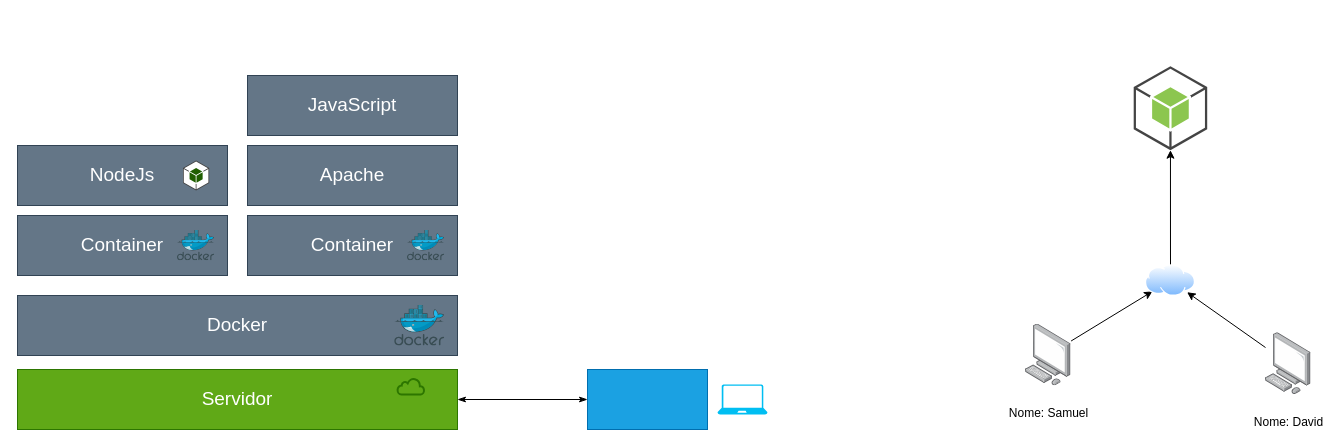
The diagram is 1340 pixels wide and 448 high, and some of its shapes have lost their labels. Here are the shapes that lost their labels. From the top down, the centre of each, then its label:
At point 1170,107: "Apenas realiza a distribuição de mensagens".
At point 410,386: "Amazon".
At point 647,399: "Cliente".
